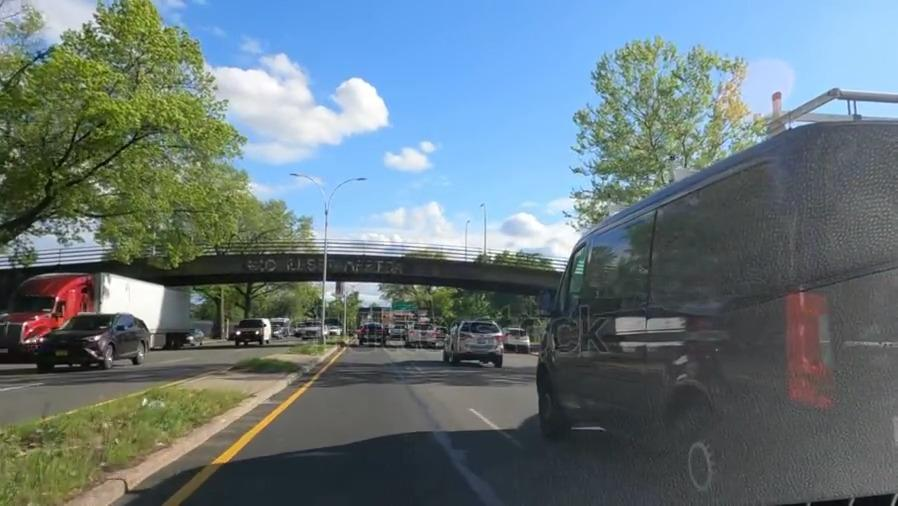car: (38, 318, 150, 367), (443, 320, 500, 362), (406, 320, 432, 348), (359, 323, 384, 346), (505, 330, 529, 352)
truck: (2, 271, 189, 348)
van: (551, 123, 897, 477), (235, 319, 270, 344)
wheel: (664, 403, 731, 504), (535, 367, 564, 437)
